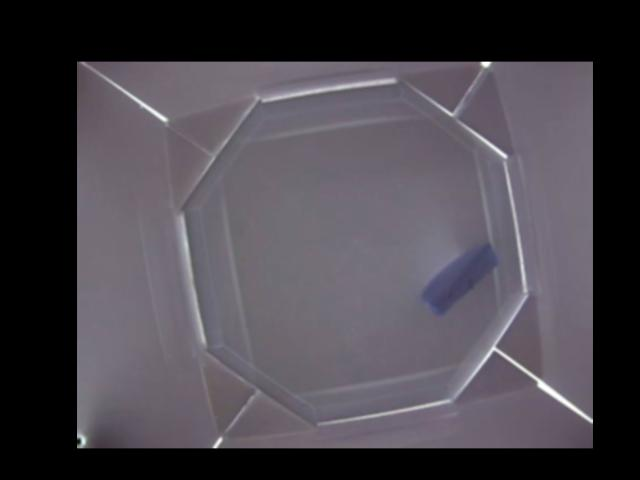Mooli: (421, 241, 501, 314)
